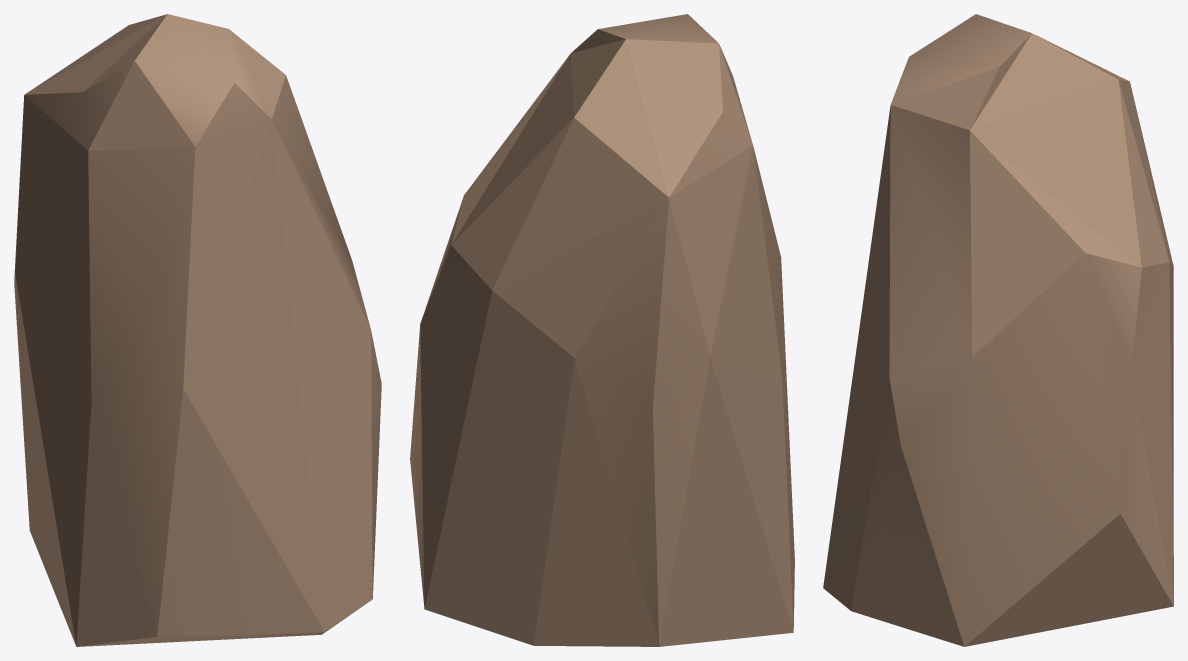
Rendered from a_z2_rock_l.fbx.
3 renders of one model, left to right at view 1: azimuth 30°, elevation 25°; view 2: azimuth 150°, elevation 25°; view 3: azimuth 270°, elevation 25°, orthographic. The views are drawn at different scales.
Parts seen in each view (by area): view 1: a_z2_rock_l; view 2: a_z2_rock_l; view 3: a_z2_rock_l.
Part boxes in pixels (x1,y1,x2,y2): a_z2_rock_l: [14, 14, 381, 646]; a_z2_rock_l: [410, 14, 794, 646]; a_z2_rock_l: [823, 14, 1173, 646].
Bounding box in the file's own units: 174 × 320 × 183.
